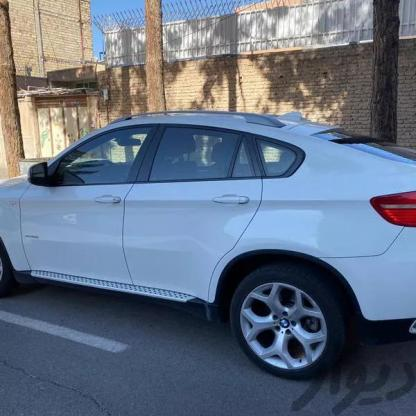Car: (0, 106, 416, 383)
